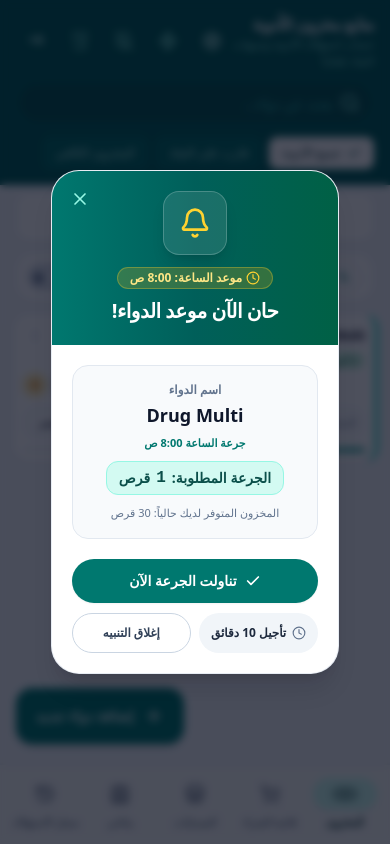
Scenario: doseId propagation — production callers (integration) › auto-due d1 + In-App DoseAlarm Take: one deduction; duplicate notification does not reopen modal; d2 untouched
Expected: the heading "Drug Multi" is shown, [303,327,365,344]
Click the button with test id "alarm-take-dose".
click(195, 581)  # box [72,559,318,603]
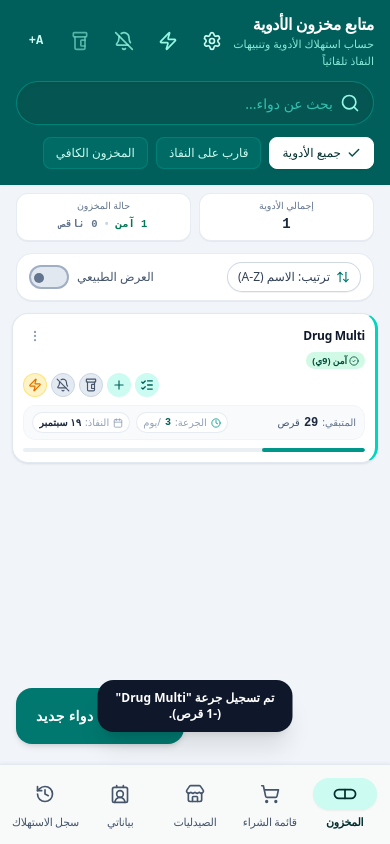
Expected: the button with test id "alarm-take-dose" is gone
